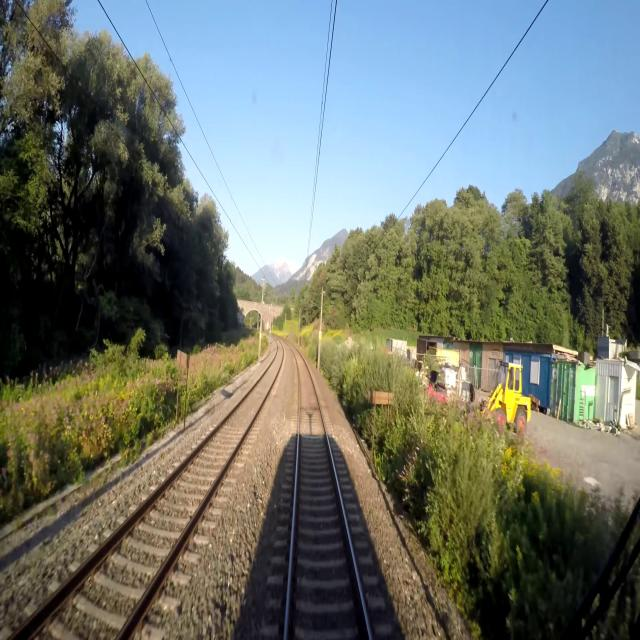rail-track: (15, 343, 281, 639), (288, 351, 368, 639)
